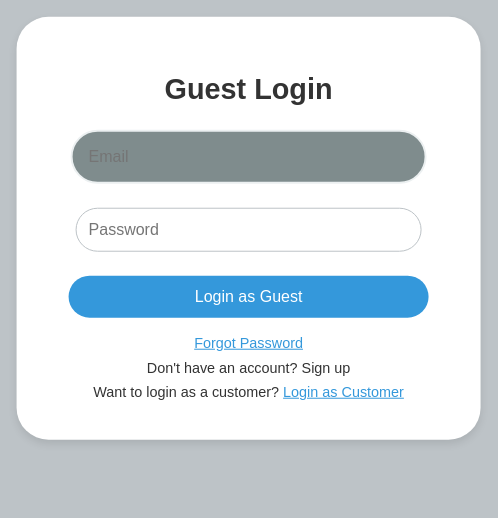
Test: GuestLogin › handles login failure
In the field with placeholder "Email": (249, 157) [71, 130, 427, 184], type "guest@example.com"
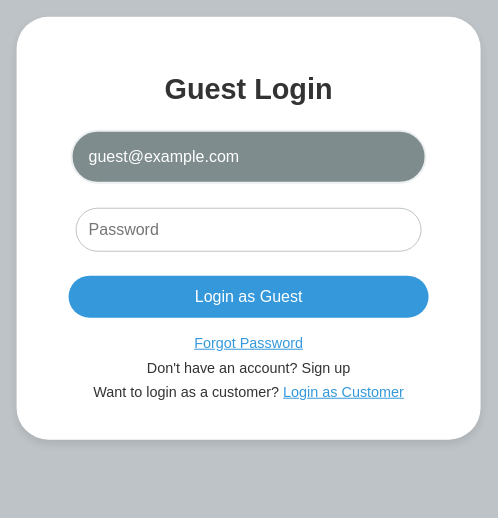
In the password field with placeholder "Password": (249, 230) [76, 208, 422, 252], type "wrongpassword"
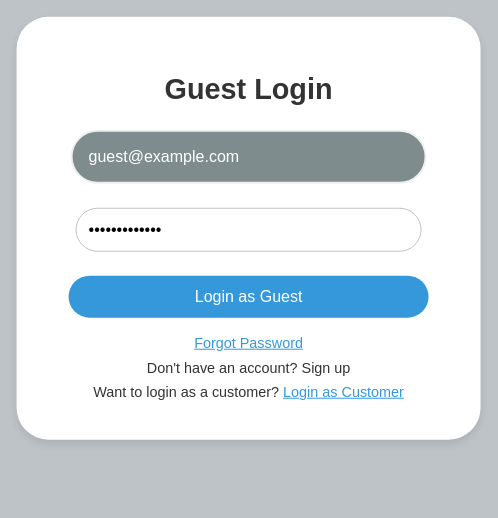
Click the button "Login as Guest": (249, 297) [69, 276, 429, 318]
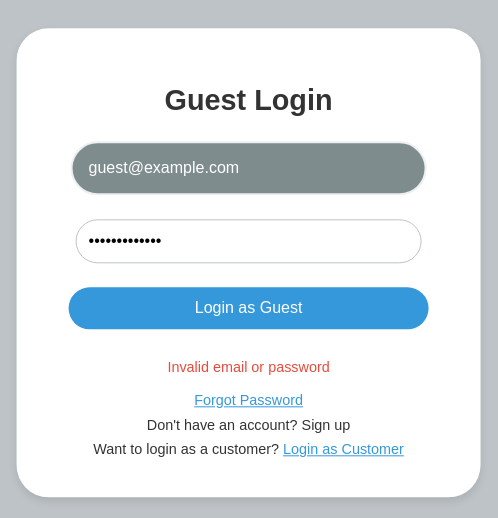
Check: the text "Invalid email or password" is shown, box [167, 360, 330, 376]
